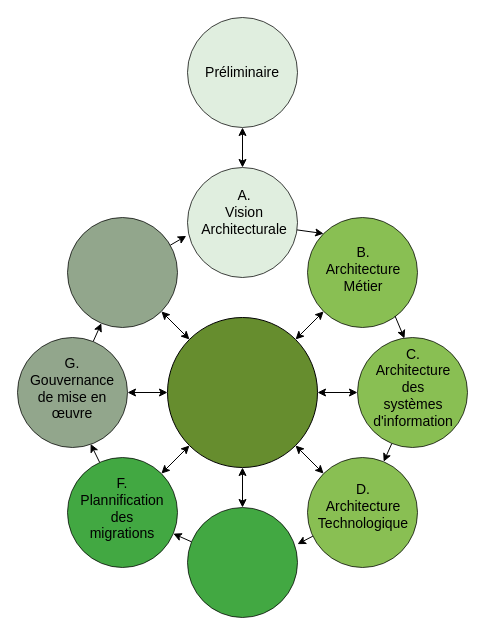
This 485x635 diagram has some shape labels left out. The box of each missing label's shape, as (x1, y1, x2, y2) in pixels:
E. Opportunités et Solutions: (186, 506, 298, 618)
Gestion des exigences: (166, 316, 318, 468)
H. Gestion des changements d'Architecture: (66, 216, 178, 328)
